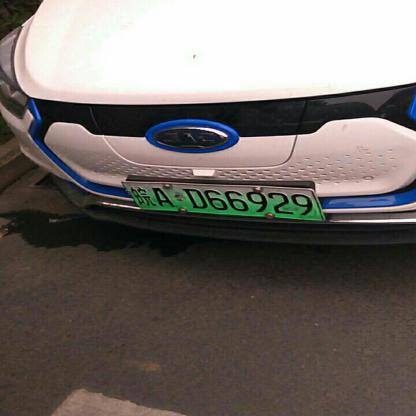lp: (120, 182, 324, 219)
